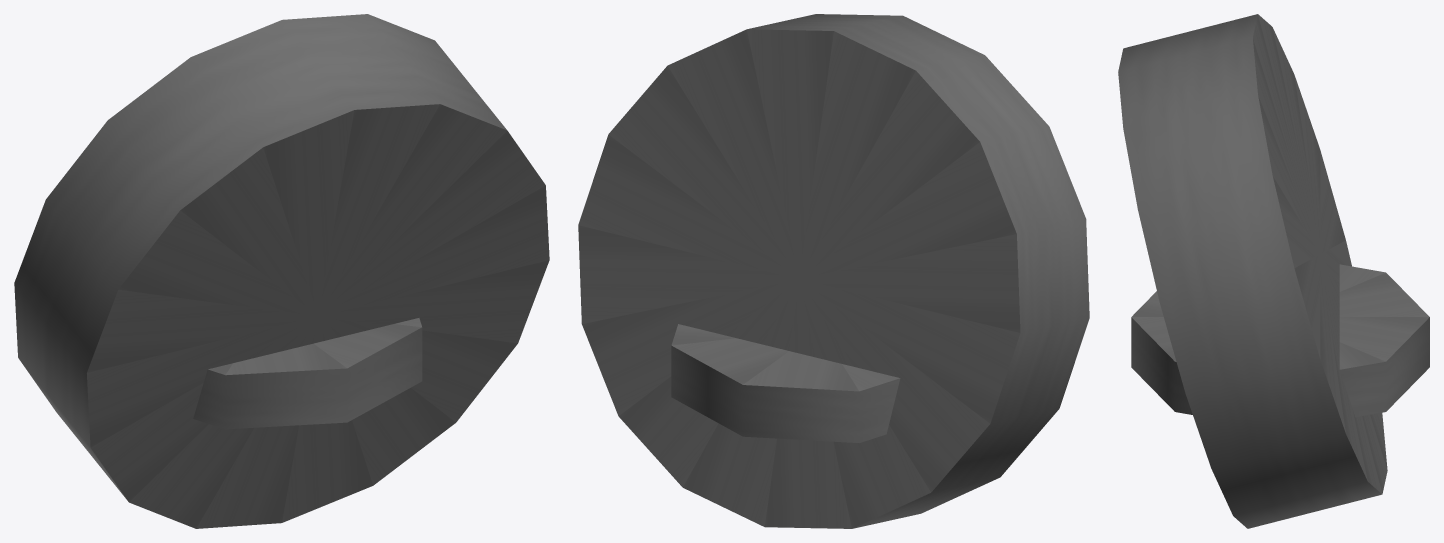
File: mastarmcurve_6x2_c5_down.obj
3 renders of one model, left to right at view 1: azimuth 30°, elevation 25°; view 2: azimuth 150°, elevation 25°; view 3: azimuth 270°, elevation 25°, orthographic. The views are drawn at different scales.
Parts seen in each view (by area): view 1: mastarm_6x2_c5_down; view 2: mastarm_6x2_c5_down; view 3: mastarm_6x2_c5_down.
Part boxes in pixels (bbox=[...]): mastarm_6x2_c5_down: bbox=[14, 14, 549, 528]; mastarm_6x2_c5_down: bbox=[578, 14, 1089, 528]; mastarm_6x2_c5_down: bbox=[1118, 14, 1429, 528].
Size of the model in its own units: 0.6654 by 0.6913 by 0.4176.
